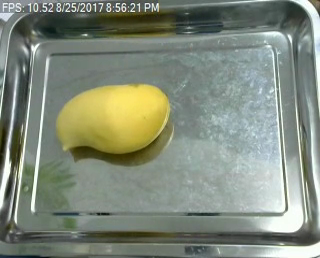Mango: (55, 84, 173, 156)
